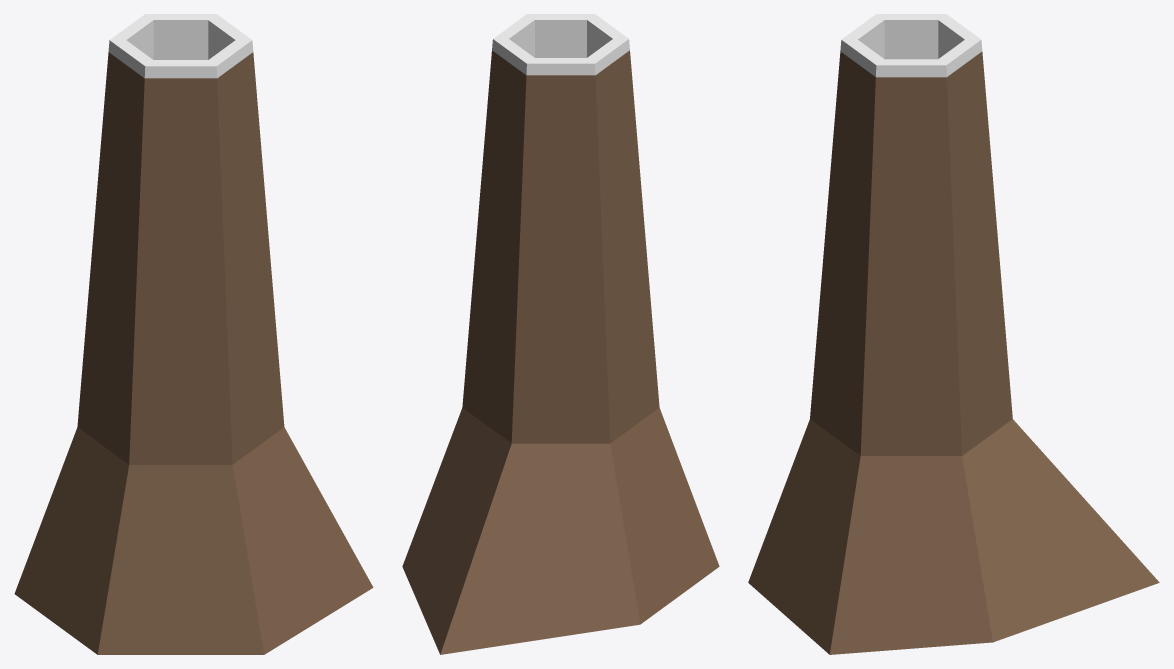
The model's file is Tree Trunk 2.fbx.
The picture shows the model from 3 angles, left to right: view 1: azimuth 30°, elevation 25°; view 2: azimuth 150°, elevation 25°; view 3: azimuth 270°, elevation 25°; orthographic projection. The views are drawn at different scales.
Parts seen in each view (by area): view 1: Tree Trunk 2; view 2: Tree Trunk 2; view 3: Tree Trunk 2.
Boxes of the visible parts, x1,y1,x2,y2 form: Tree Trunk 2: (14,14,373,654); Tree Trunk 2: (402,14,719,654); Tree Trunk 2: (748,14,1159,654).
Bounding box in the file's own units: 68.81 × 132 × 90.7.
1 material, 1 textured.
